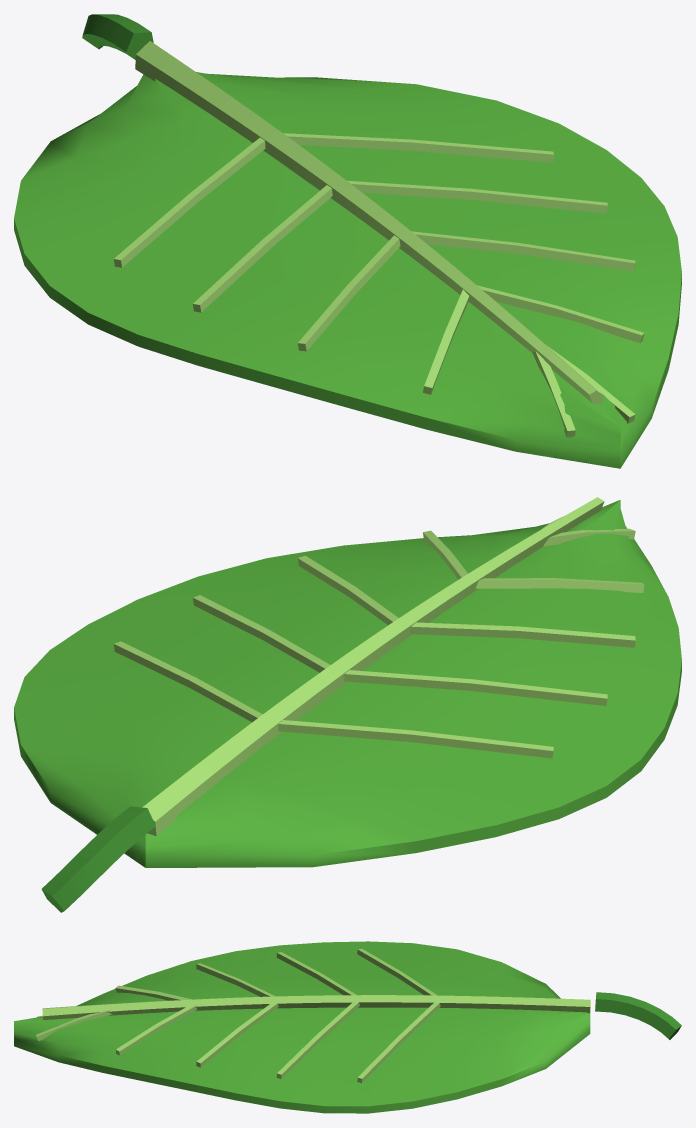
The model's file is leaf.glb.
The picture shows the model from 3 angles, top to bottom: view 1: azimuth 30°, elevation 25°; view 2: azimuth 150°, elevation 25°; view 3: azimuth 270°, elevation 25°; orthographic projection. The views are drawn at different scales.
Parts seen in each view (by area): view 1: Leaf; view 2: Leaf; view 3: Leaf.
Part boxes in pixels (bbox=[...]): Leaf: bbox=[14, 14, 681, 468]; Leaf: bbox=[14, 497, 681, 912]; Leaf: bbox=[14, 941, 681, 1113].
Bounding box in the file's own units: 1.48 × 0.2175 × 2.53.
